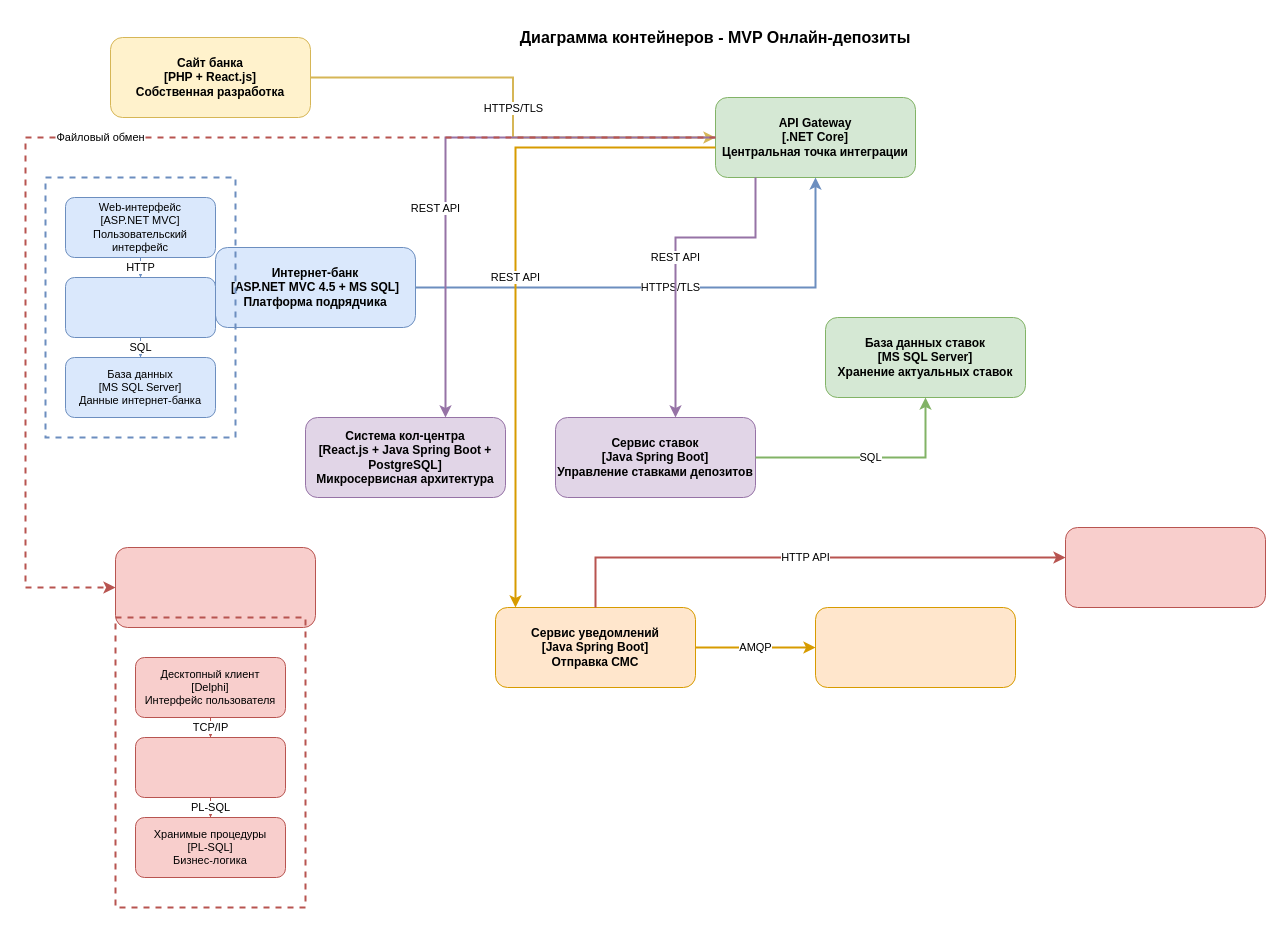
This 1283x925 diagram has some shape labels left out. The box of each missing label's shape, as (x1, y1, x2, y2) in pixels:
API слой [ASP.NET Web API] Бизнес-логика: (64, 276, 216, 338)
АБС [Delphi + Oracle + PL-SQL] Основная система учёта: (114, 546, 316, 628)
База данных [Oracle] Основные данные банка: (134, 736, 286, 798)
Очередь сообщений [MSMQ/RabbitMQ] Асинхронная обработка: (814, 606, 1016, 688)
СМС-шлюз Телеком-оператора Внешняя система: (1064, 526, 1266, 608)
